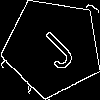J: (28, 22, 78, 73)
